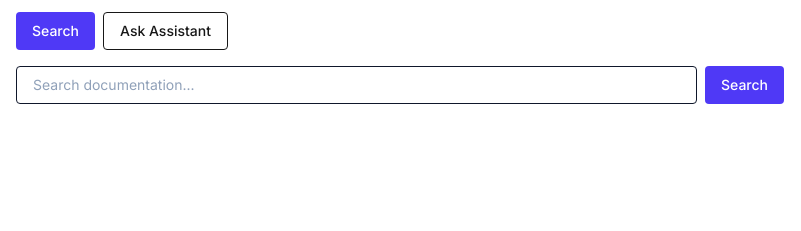
Test: SearchPage — formatted result cards (US1) › renders **bold** markdown as a <strong> element with no literal asterisks (FR-002)
This screenshot has width=801, height=231.
In the field with placeholder "Search documentation...": (356, 85) top-left (16, 66), bottom-right (697, 104), type "query"
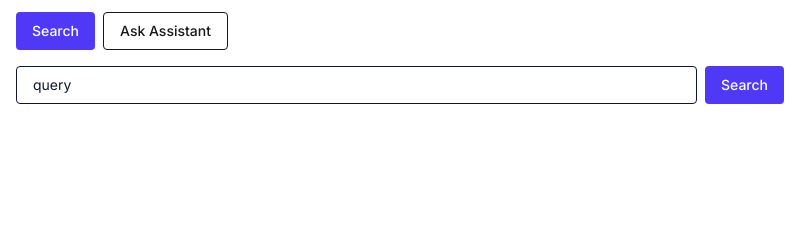
Press Enter in the field with placeholder "Search documentation...", box top-left (16, 66), bottom-right (697, 104)
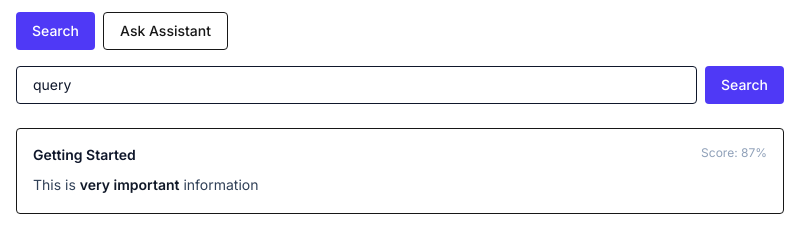
Now the text "Getting Started" is shown, box top-left (33, 145), bottom-right (136, 165)
Now the text "very important" is shown, box top-left (80, 176), bottom-right (180, 193)
